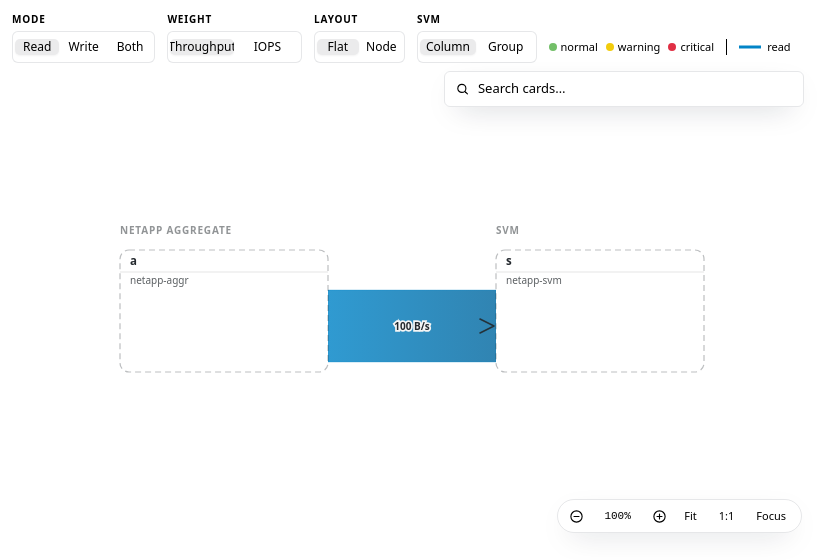
Test case: SankeyView › prompts to switch Weight when IOPS has no measurements
The width and height of the screenshot is (829, 560).
Click the radio button labelled "IOPS" at point(267, 46), box top-left (254, 38), bottom-right (281, 55)
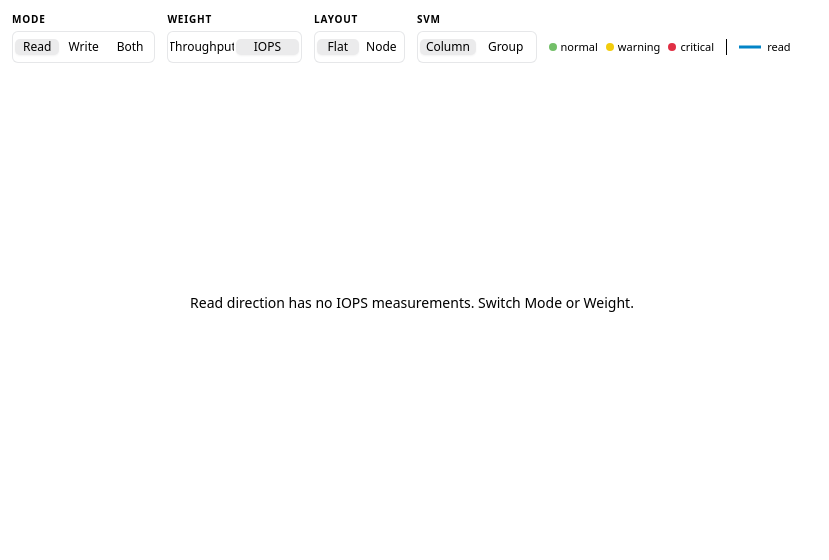
Expected: the text with test id "sankey-empty-mode" reads "Read direction has no IOPS measurements. Switch Mode or Weight.", top-left (190, 293), bottom-right (634, 312)
Click the radio button labelled "Throughput" at point(202, 47), box top-left (170, 39), bottom-right (234, 55)
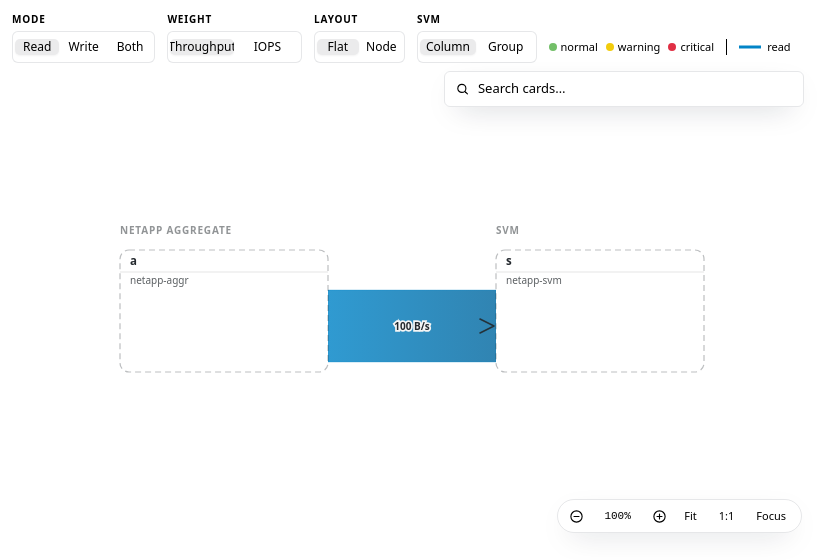
Expected: the text with test id "sankey-empty-mode" is gone
Expected: the icon with test id "sankey-svg" is shown
